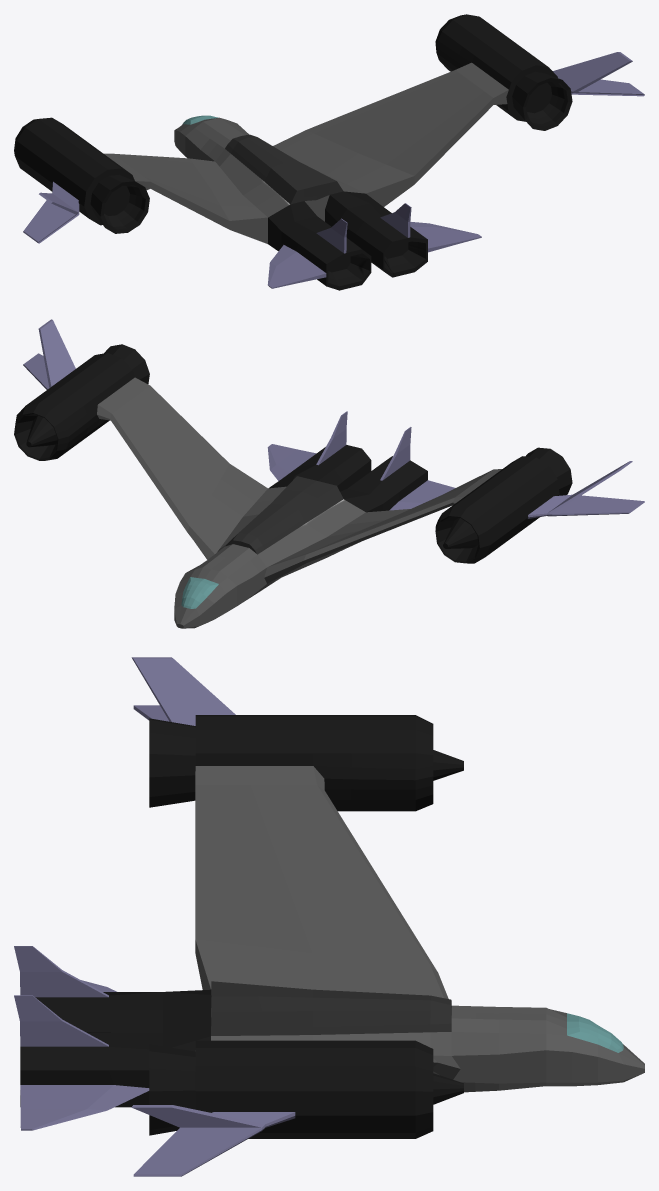
File: spaceship.obj
The picture shows the model from 3 angles, top to bottom: view 1: azimuth 30°, elevation 25°; view 2: azimuth 150°, elevation 25°; view 3: azimuth 270°, elevation 25°; orthographic projection. The views are drawn at different scales.
Parts seen in each view (by area): view 1: spaceship; view 2: spaceship; view 3: spaceship.
Part boxes in pixels (x1,y1,x2,y2): spaceship: (14, 14, 644, 290); spaceship: (14, 319, 644, 628); spaceship: (14, 657, 644, 1176).
Bounding box in the file's own units: 20.45 × 4.11 × 11.61.
1 material, 1 textured.
